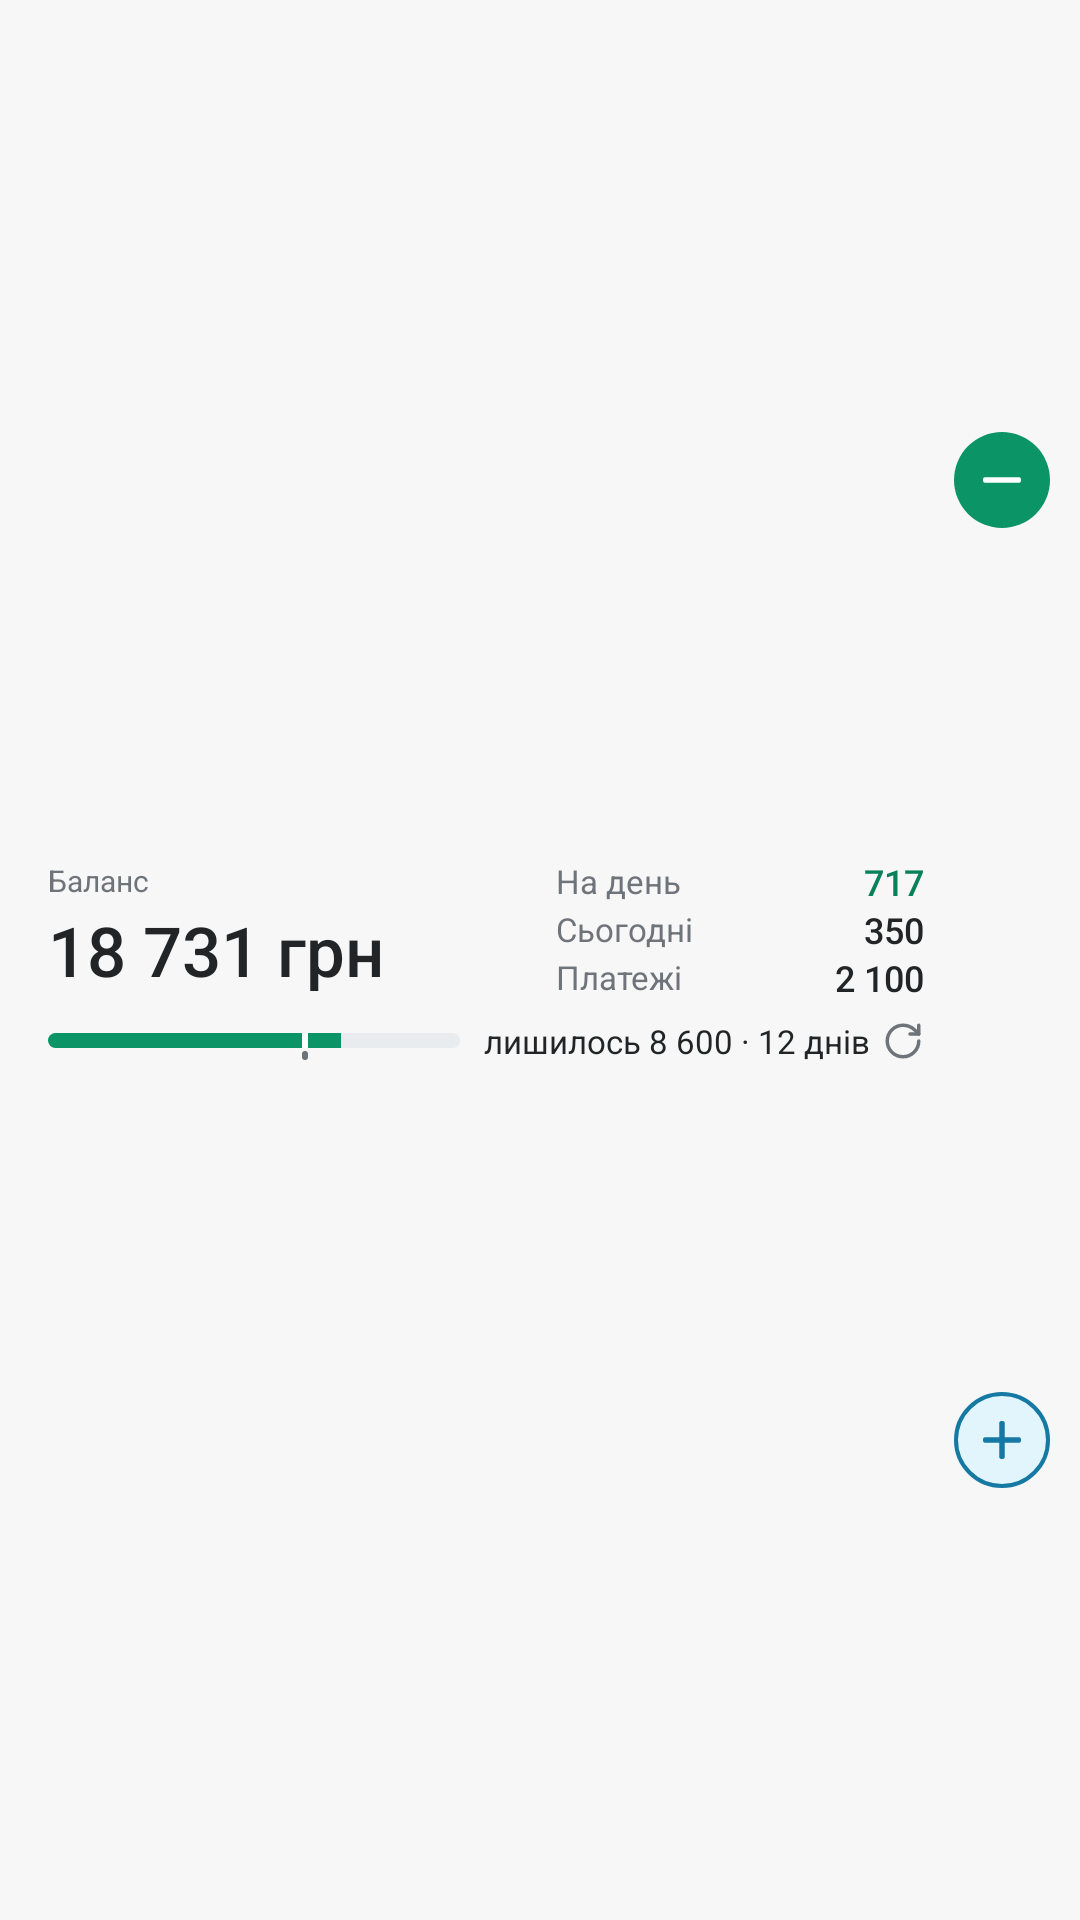

Named icons in this screenshot (1080*1920) and their bounding boxes, detection(x1, y1, x2, y2):
Витрата: detection(954, 432, 1050, 528)
Дохід: detection(954, 1392, 1050, 1488)
Оновити: detection(885, 1023, 921, 1059)
